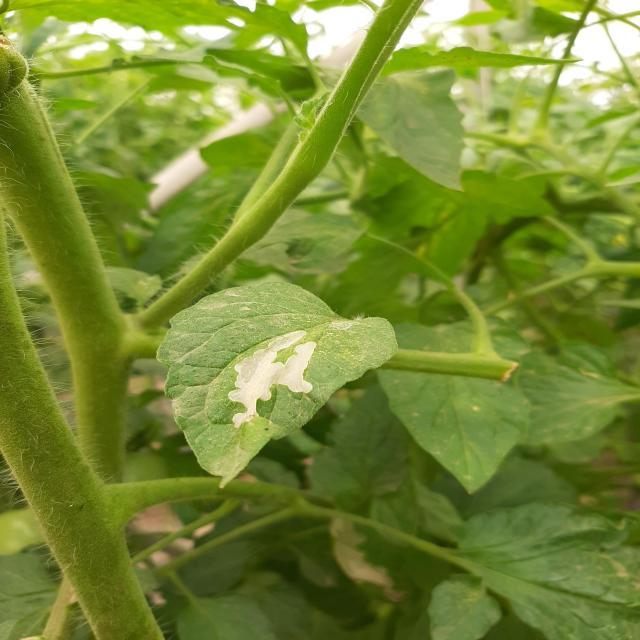Tuta absoluta: (206, 321, 336, 436)
